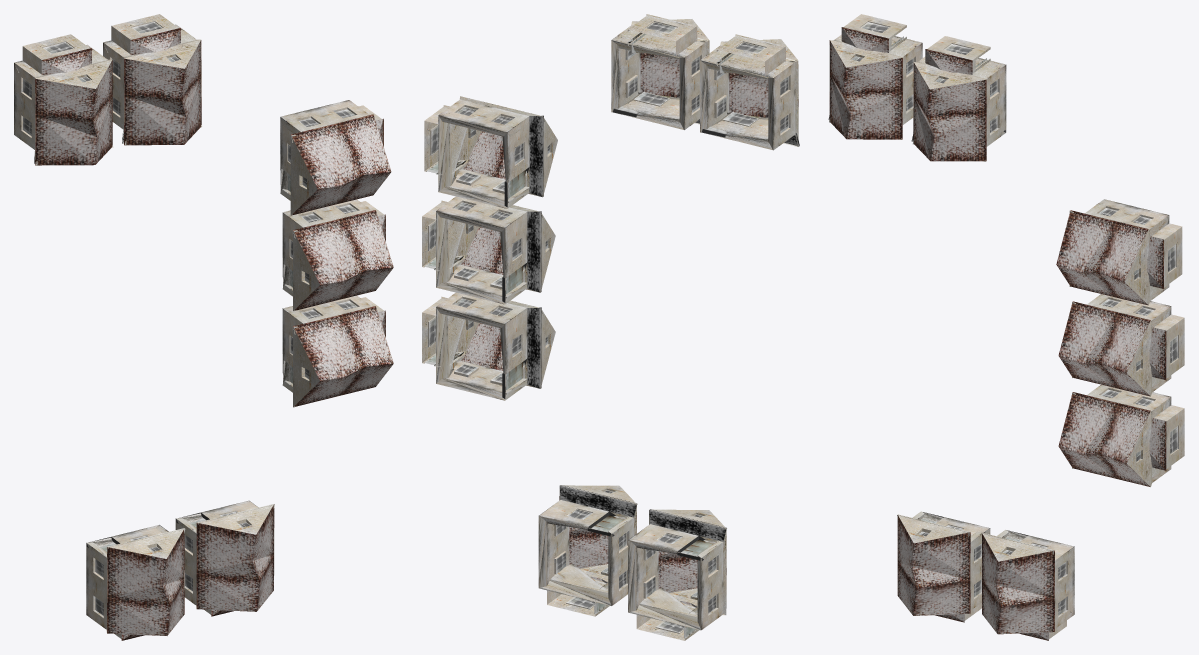
Rendered from domiclegroup_wtf.obj.
3 views of the same model, side by side, from view 1: azimuth 30°, elevation 25°; view 2: azimuth 150°, elevation 25°; view 3: azimuth 330°, elevation 25° (orthographic). The views are drawn at different scales.
Parts seen in each view (by area): view 1: group22, group17, group14, group4, group8, group13, group5; view 2: group14, group4, group8, group13, group22, group5, group17, group7, group2, group11, group16, group10; view 3: group14, group17, group13, group8, group22, group5, group4.
Boxes of the visible parts, x1,y1,x2,y2 form: group22: [14, 34, 113, 165]; group17: [103, 14, 201, 145]; group14: [280, 100, 391, 215]; group4: [86, 525, 185, 640]; group8: [282, 295, 393, 407]; group13: [282, 199, 393, 311]; group5: [175, 500, 274, 616]; group14: [424, 96, 557, 208]; group4: [628, 509, 726, 640]; group8: [422, 292, 555, 400]; group13: [422, 196, 555, 304]; group22: [700, 34, 799, 150]; group5: [538, 485, 637, 616]; group17: [611, 14, 709, 129]; group7: [559, 485, 636, 517]; group2: [649, 509, 726, 541]; group11: [527, 211, 540, 292]; group16: [529, 116, 542, 197]; group10: [527, 308, 540, 388]; group14: [1056, 199, 1182, 305]; group17: [913, 36, 1006, 161]; group13: [1058, 294, 1184, 396]; group8: [1058, 384, 1184, 486]; group22: [829, 14, 922, 139]; group5: [981, 529, 1074, 640]; group4: [897, 511, 990, 622].
Bounding box in the file's own units: 409 × 660 × 89.24.
